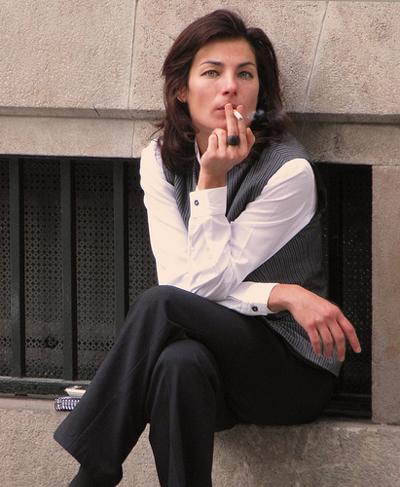person: (53, 7, 362, 487)
